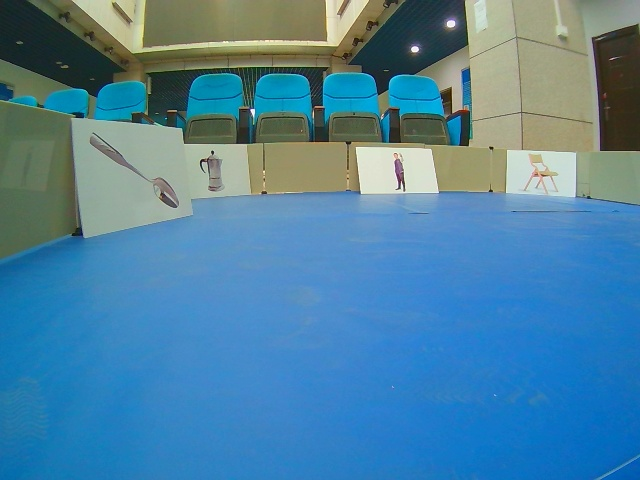dish: (70, 117, 194, 239), (185, 142, 252, 200)
person: (355, 147, 440, 194)
table: (506, 151, 578, 199)
